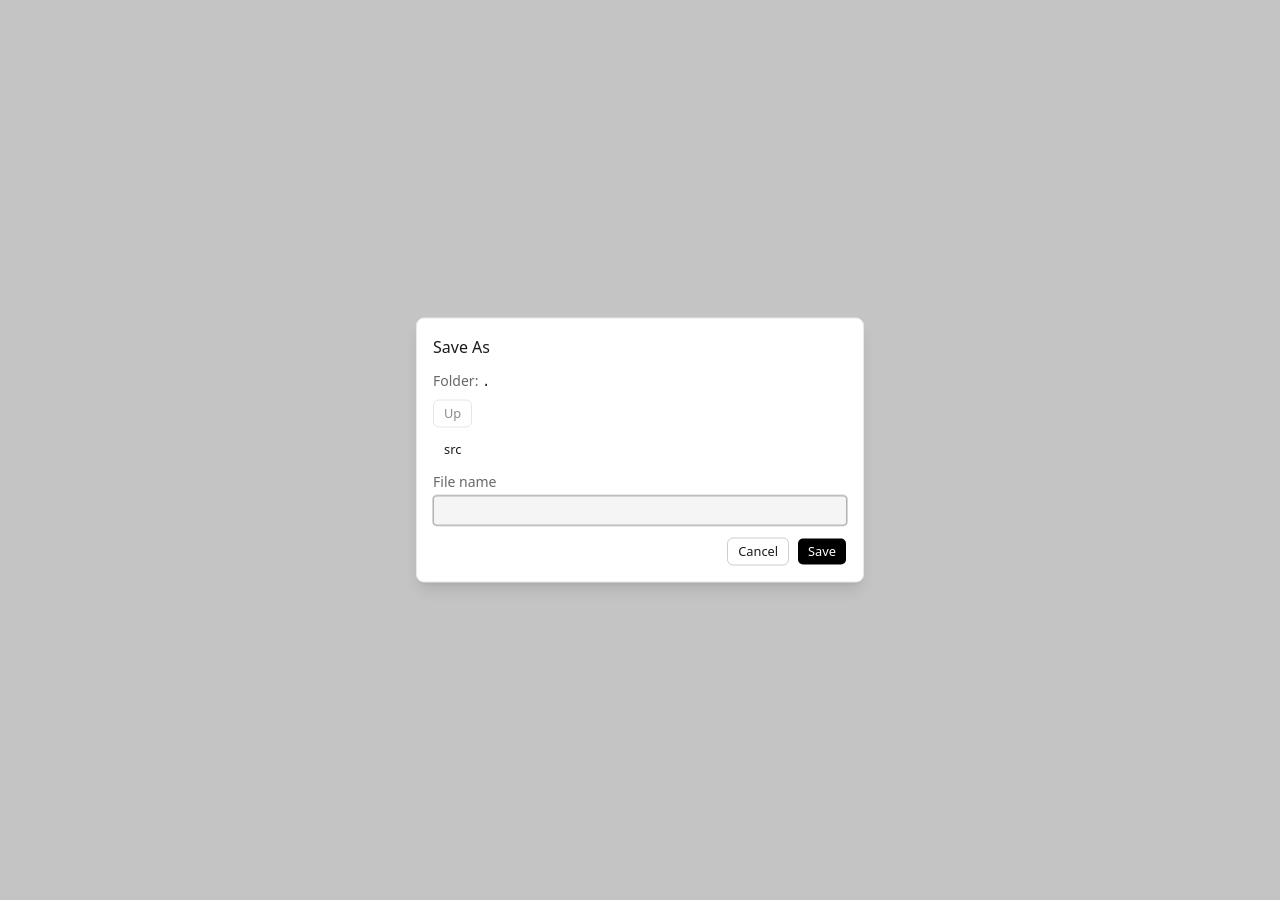
Test: EditorSaveAsDialog › failure keeps dialog open with saveError
Type "new.ts" into the field labelled "File name" at [640, 510], box [433,496,847,526]
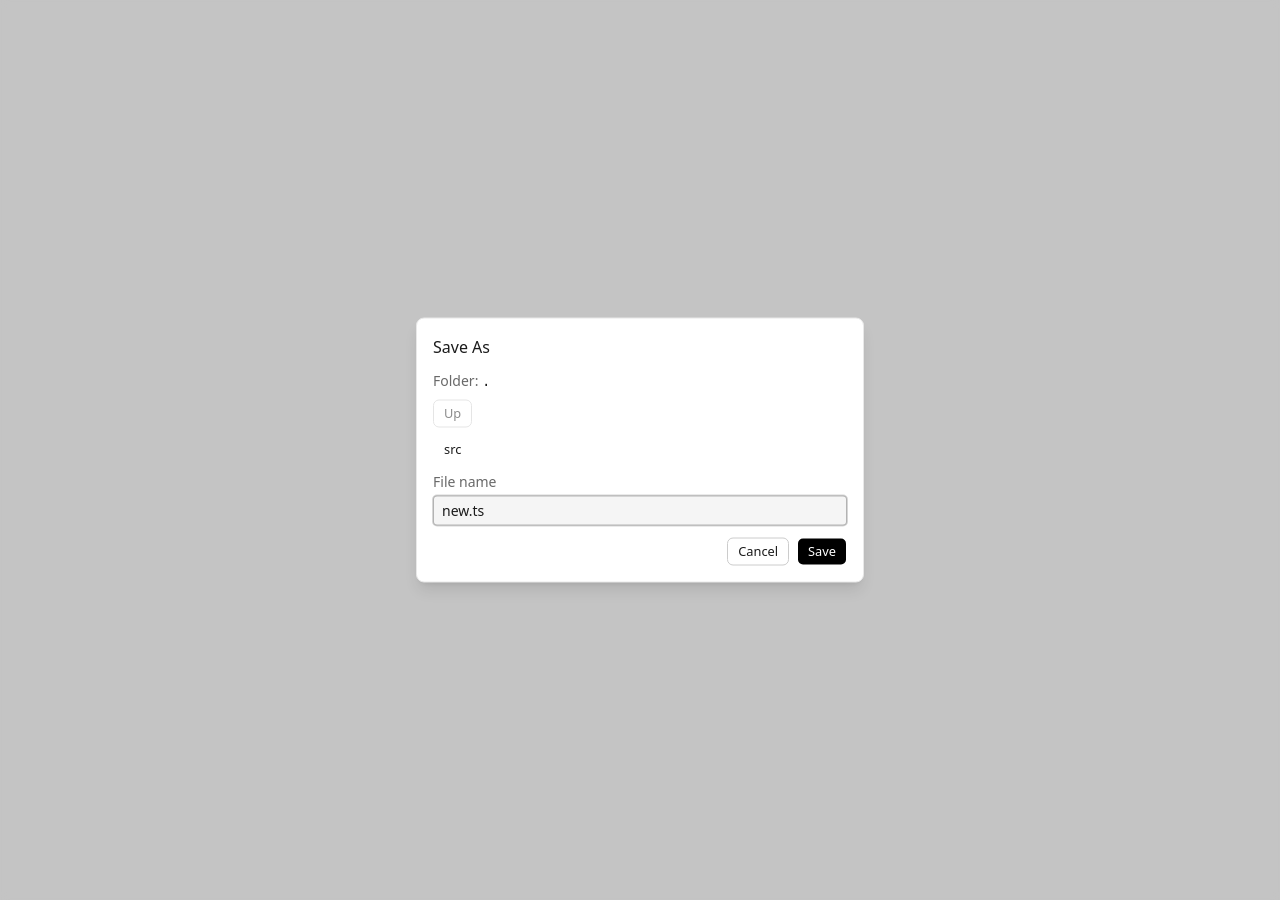
Click the button "Save" at [822, 552], box [797,538,847,566]
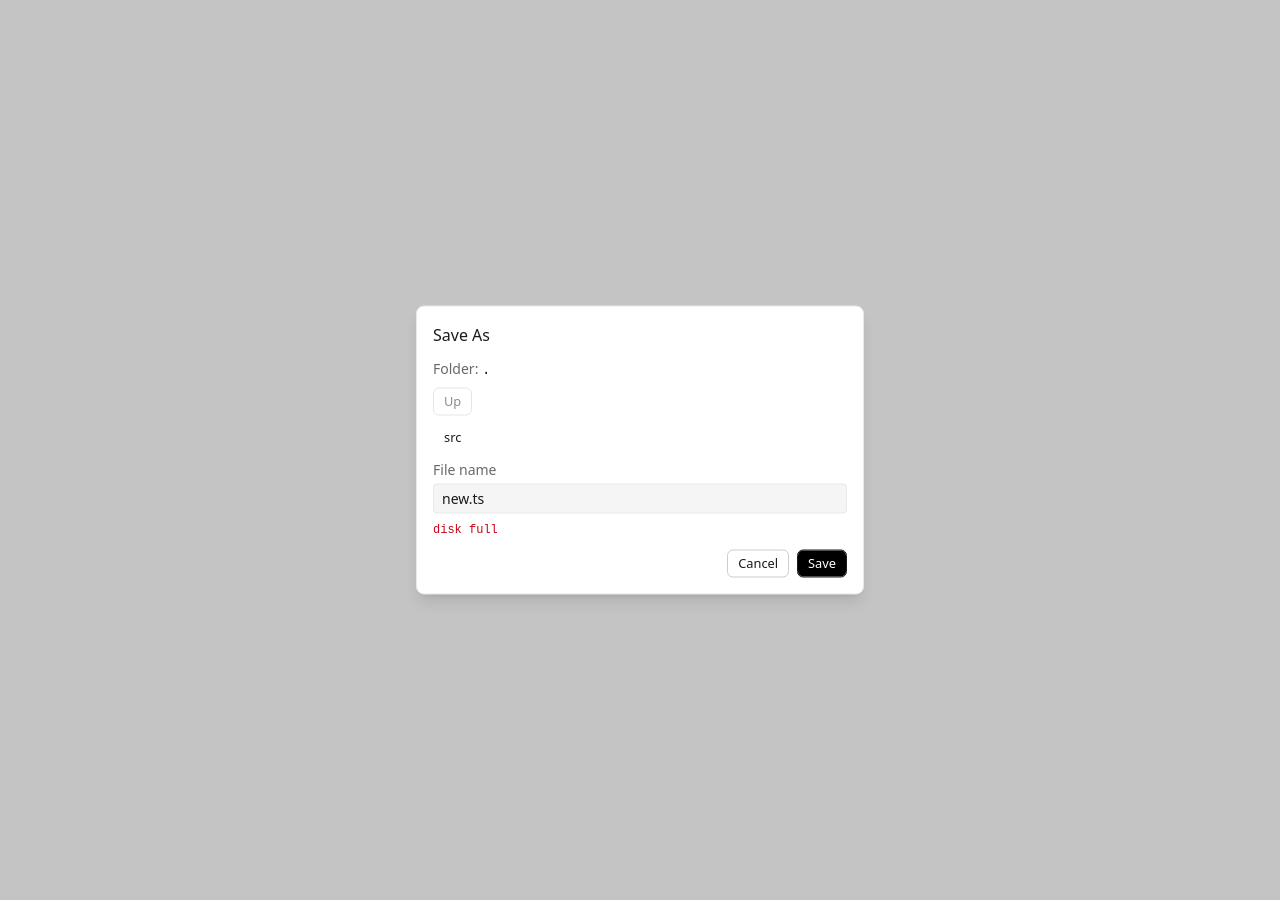
Expected: the dialog is shown, [416,306,864,594]
Now the text "disk full" is shown, box [433,522,498,536]
